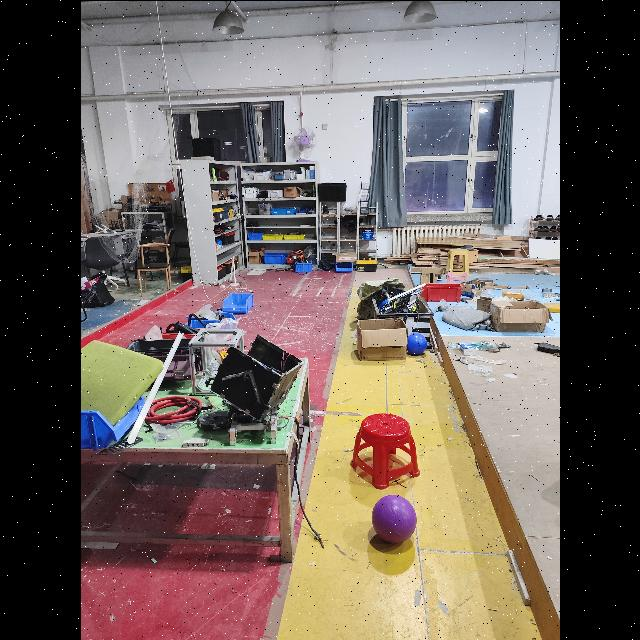B: (405, 332, 427, 356)
P: (370, 492, 418, 544)
